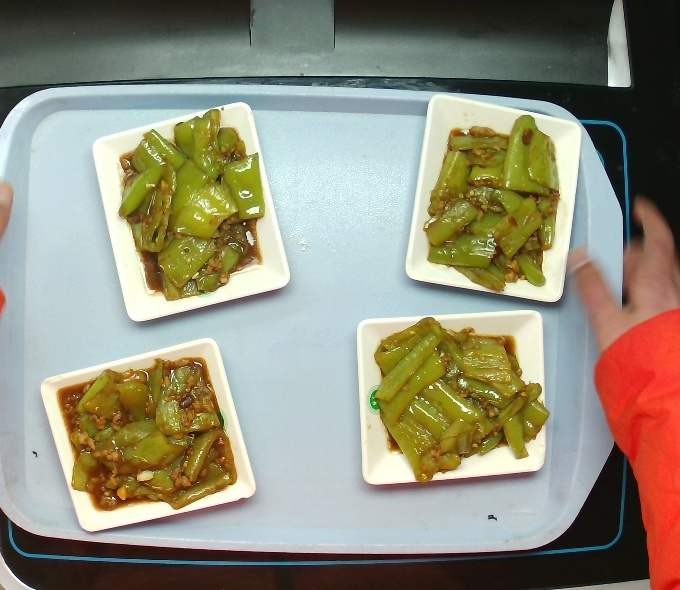wcq-RouMoQingJiao: (109, 95, 272, 318), (371, 315, 550, 489), (57, 349, 234, 519), (415, 112, 559, 298)
